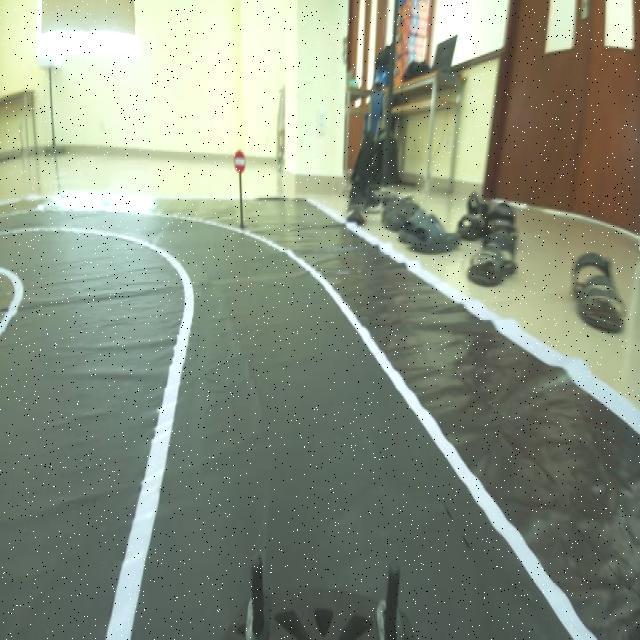no_entry: (234, 151, 248, 179)
